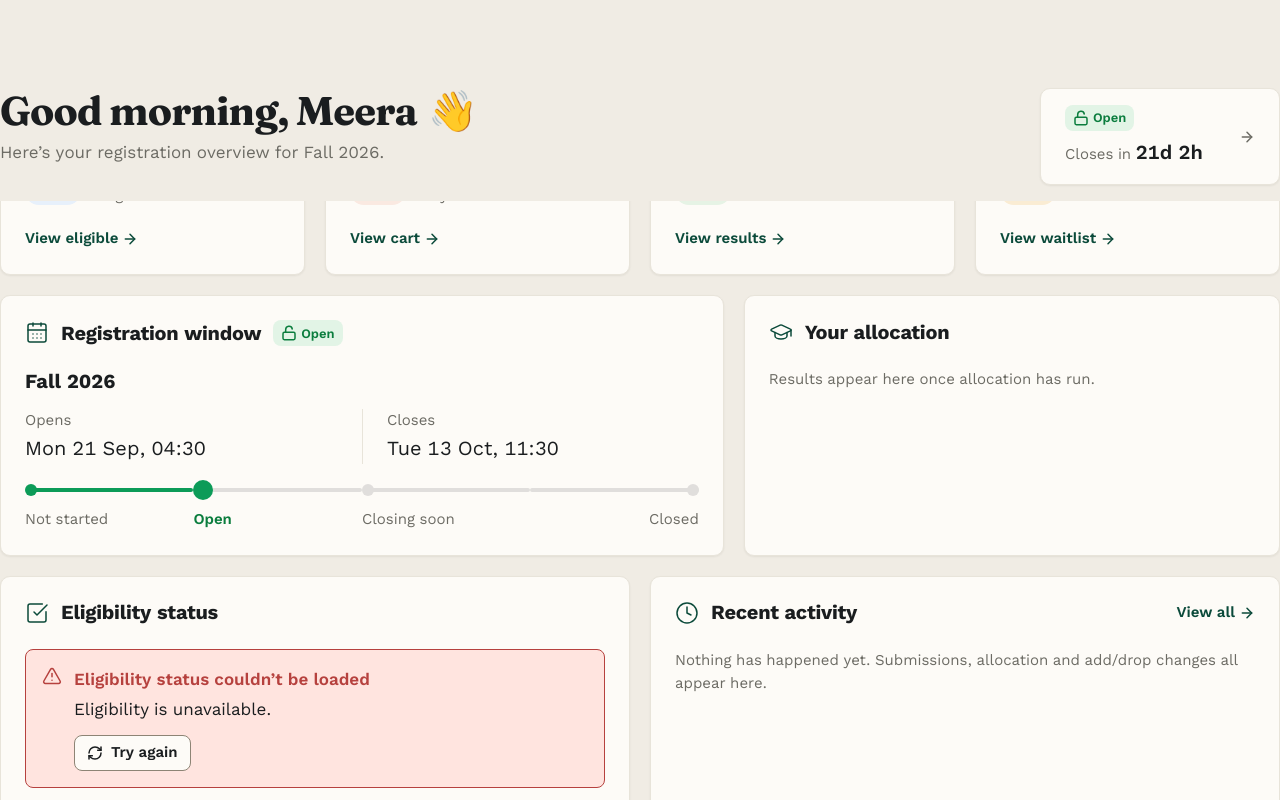
Scenario: StudentDashboardPage › retries only the section that failed
Click the button "Try again": (132, 752) [74,734,191,770]
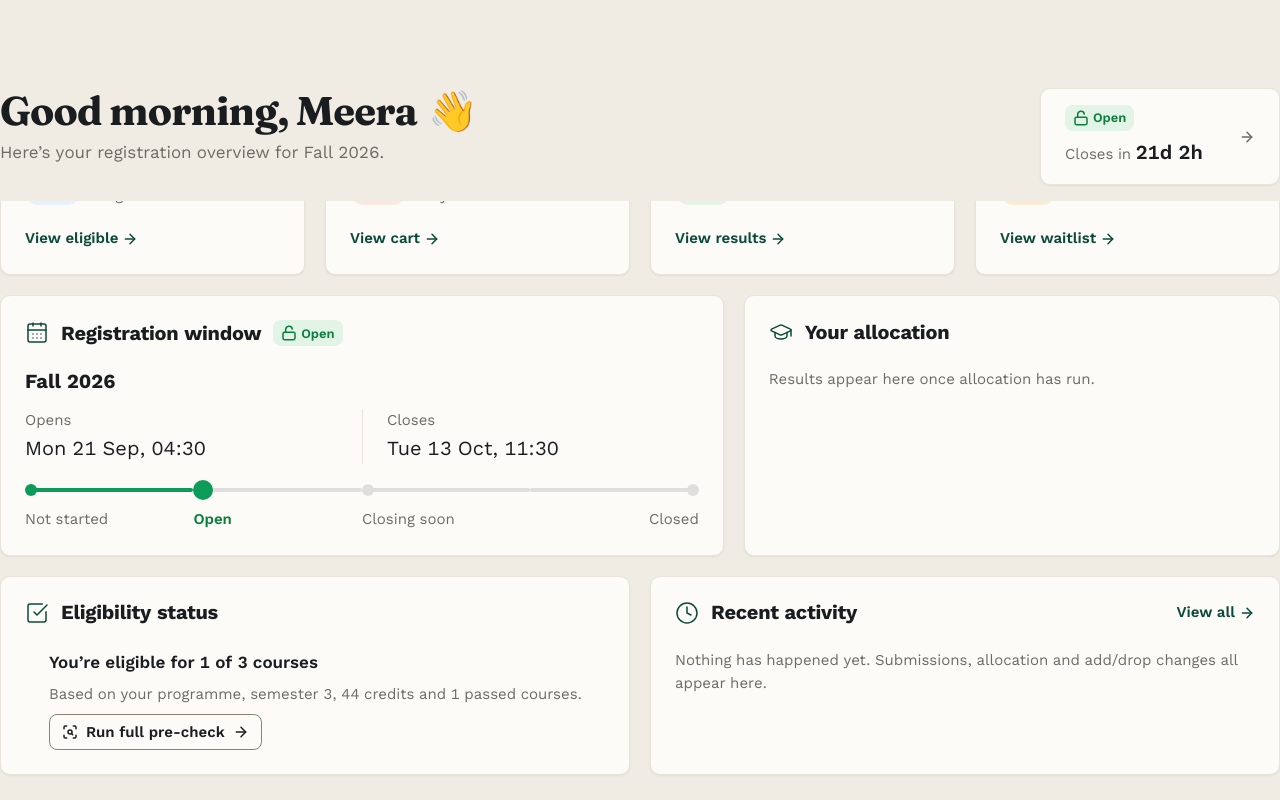
Expected: the text "You’re eligible for 1 of 3 courses" is shown, [49,649,318,675]
